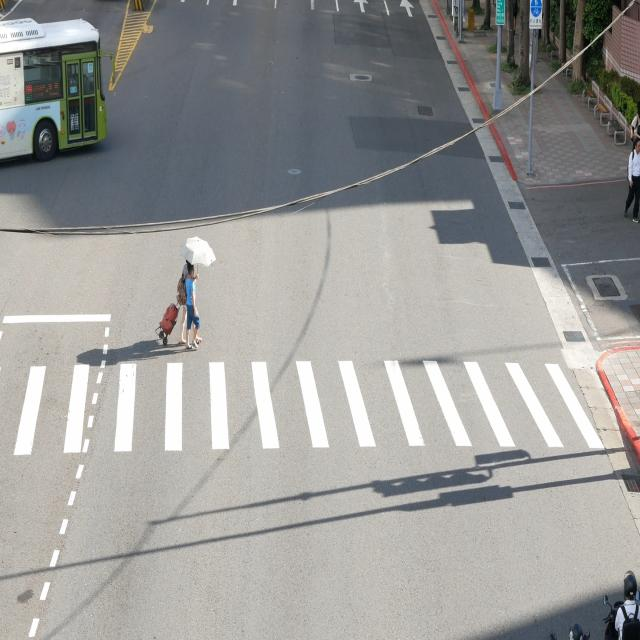pedestrian: (186, 279, 195, 305)
